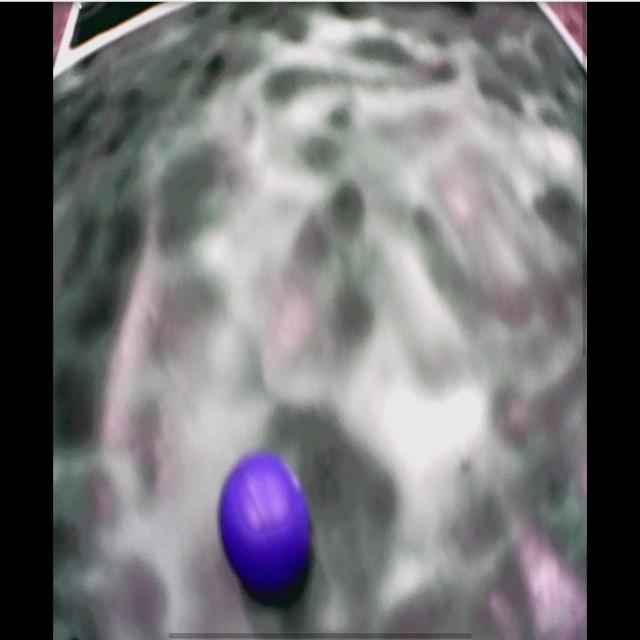ball: (218, 454, 310, 594)
